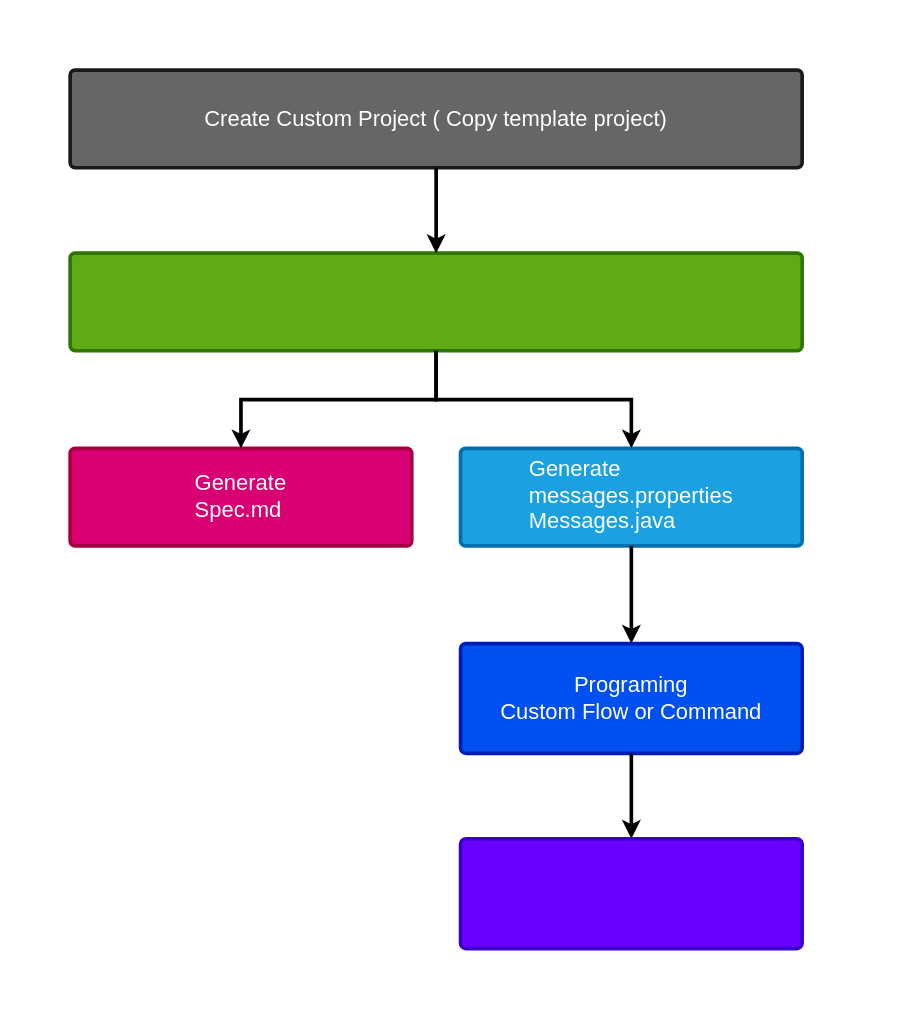
This 920x1017 diagram has some shape labels left out. Each missing label, with the centre of its shape:
Create Custom Spec ( Write spec YAML): (435,301)
Packaging Deploy: (630,893)
